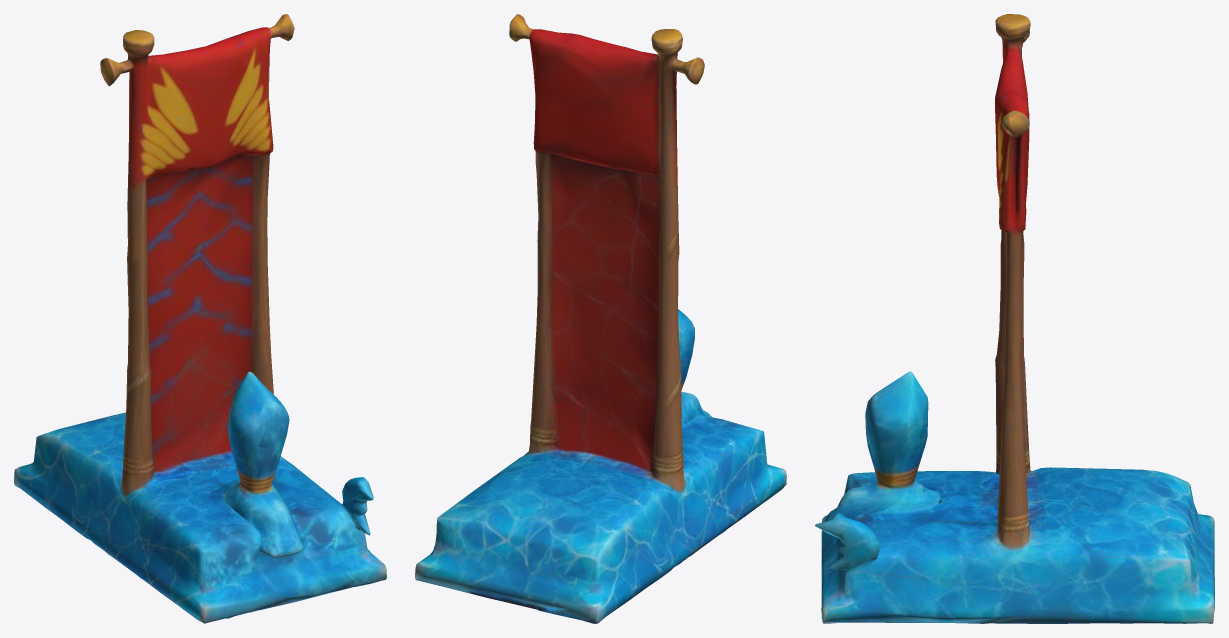
Rendered from plaza-banner.glb.
3 views of the same model, side by side, from view 1: azimuth 30°, elevation 25°; view 2: azimuth 150°, elevation 25°; view 3: azimuth 270°, elevation 25° (orthographic). The views are drawn at different scales.
Parts seen in each view (by area): view 1: Mesh_0; view 2: Mesh_0; view 3: Mesh_0.
Boxes of the visible parts, x1=… form: Mesh_0: x1=14, y1=14, x2=386, y2=623; Mesh_0: x1=415, y1=14, x2=786, y2=623; Mesh_0: x1=815, y1=14, x2=1214, y2=623.
Size of the model in its own units: 1.23 by 3.2 by 2.2.
Materials: 1 (1 with a texture image).
